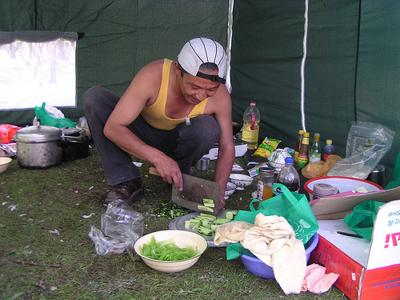person: (82, 38, 235, 216)
